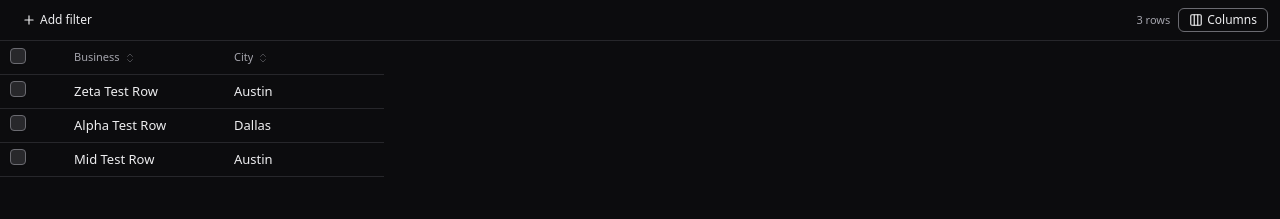
Test case: DataTable › filters rows through an editable chip and shows the query summary
The width and height of the screenshot is (1280, 219).
Click the button "Add filter".
click(57, 20)  # box [12,8,102,32]
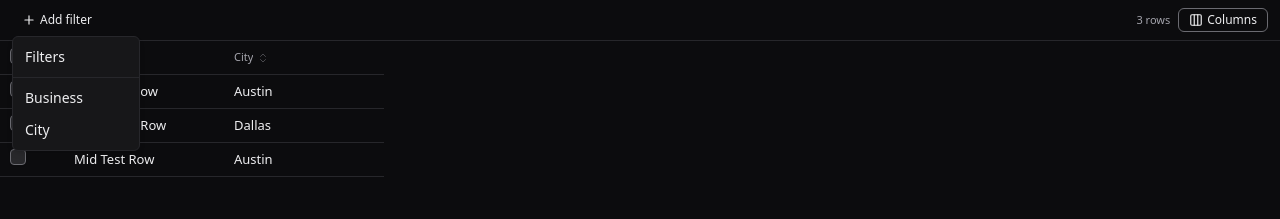
Click the menu item "City".
click(37, 130)  # box [25,120,50,139]
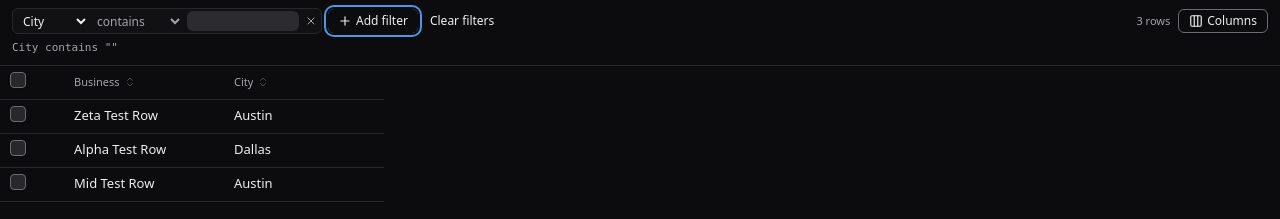
Type "dallas" into the field named "city contains".
click(243, 21); type("dallas")  # box [187,11,299,31]
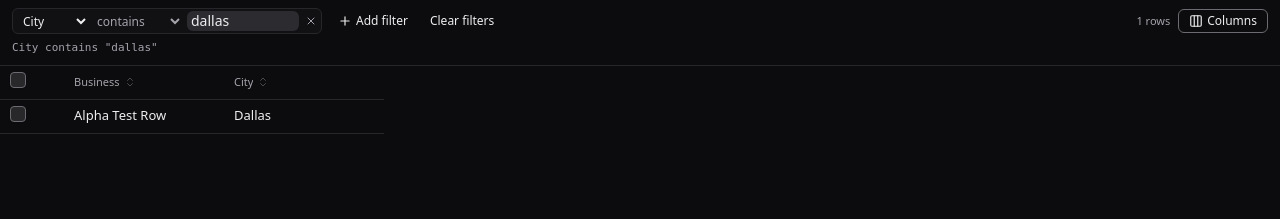
Expected: the text "City contains \"dallas\"" is shown, [12,41,158,54]
